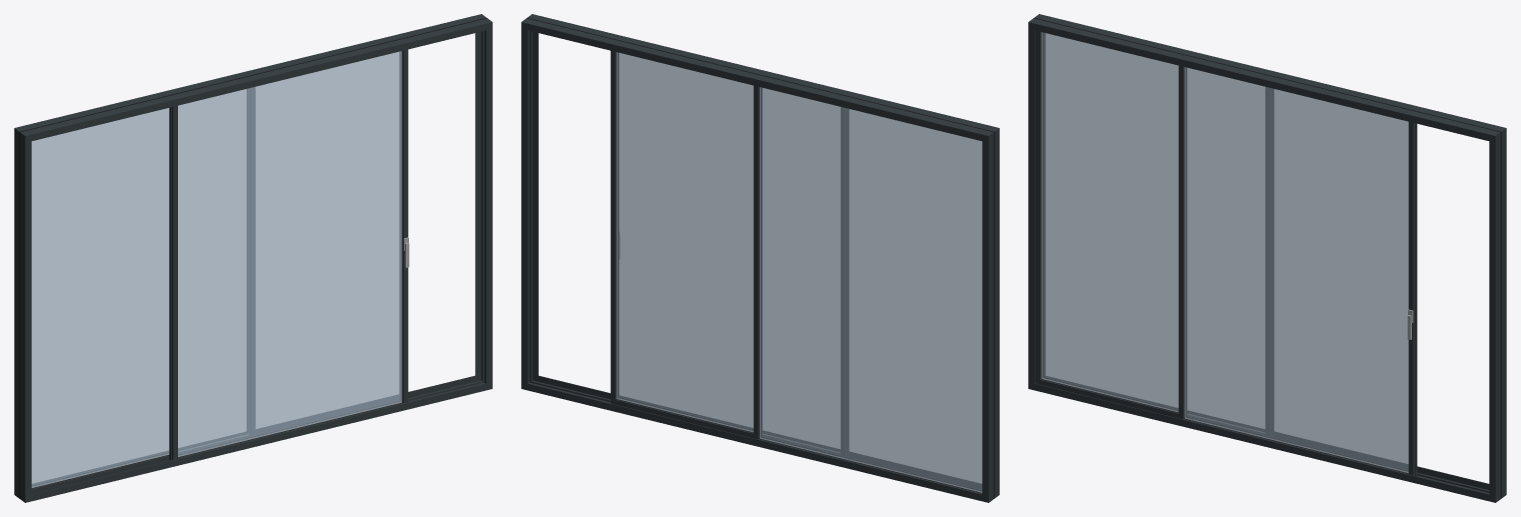
The model's file is hi-finity.glb.
3 views of the same model, side by side, from view 1: azimuth 30°, elevation 25°; view 2: azimuth 150°, elevation 25°; view 3: azimuth 330°, elevation 25° (orthographic).
Visible parts, largest first — view 1: Hi-Finity; view 2: Hi-Finity; view 3: Hi-Finity.
Part boxes in pixels (x1,y1,x2,y2): Hi-Finity: (14,14,492,502); Hi-Finity: (521,14,999,502); Hi-Finity: (1028,14,1506,502).
Bounding box in the file's own units: 3.6 × 2.7 × 0.1573.
